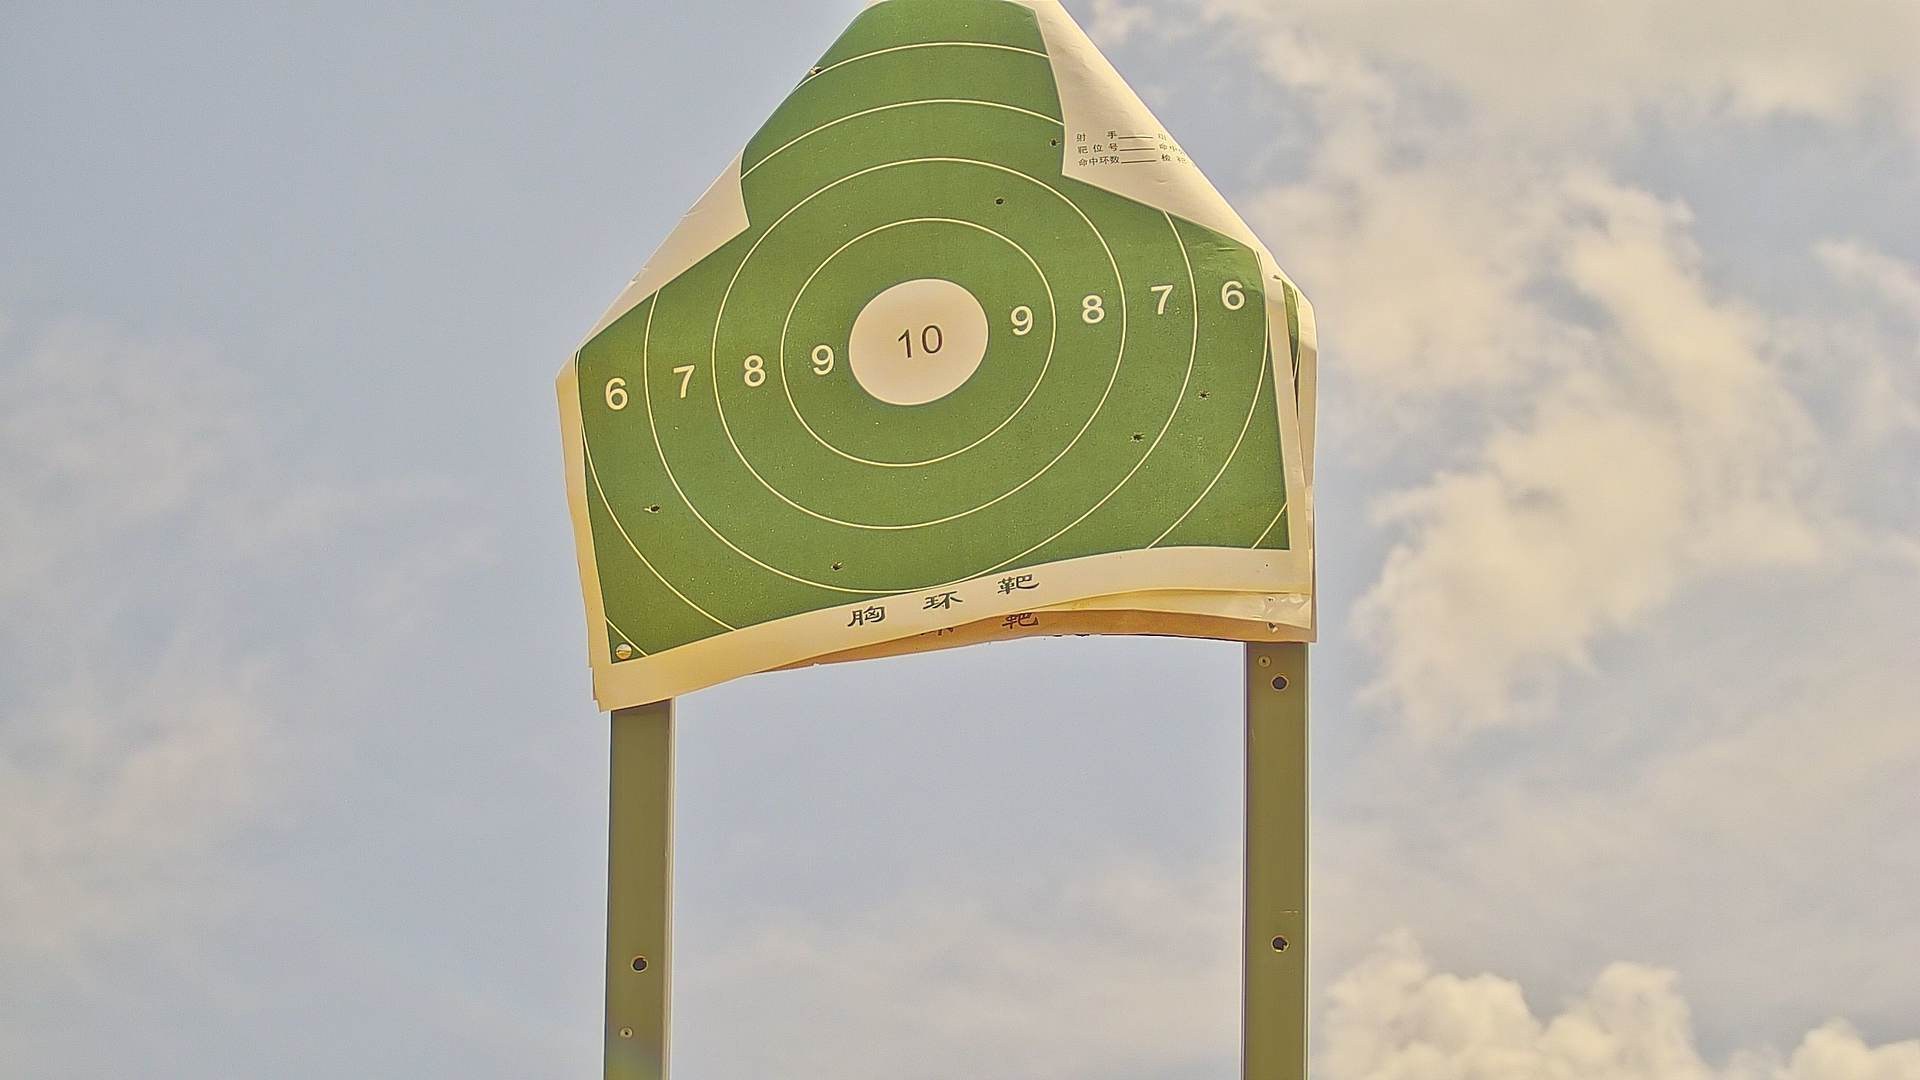hole: (644, 501, 663, 516), (828, 558, 847, 572), (1197, 386, 1211, 404), (1131, 430, 1146, 444), (814, 65, 827, 79), (1048, 135, 1062, 149), (993, 195, 1006, 207)
kernel: (915, 338, 924, 345)
target: (575, 3, 1290, 667)
ten: (844, 278, 990, 407)
